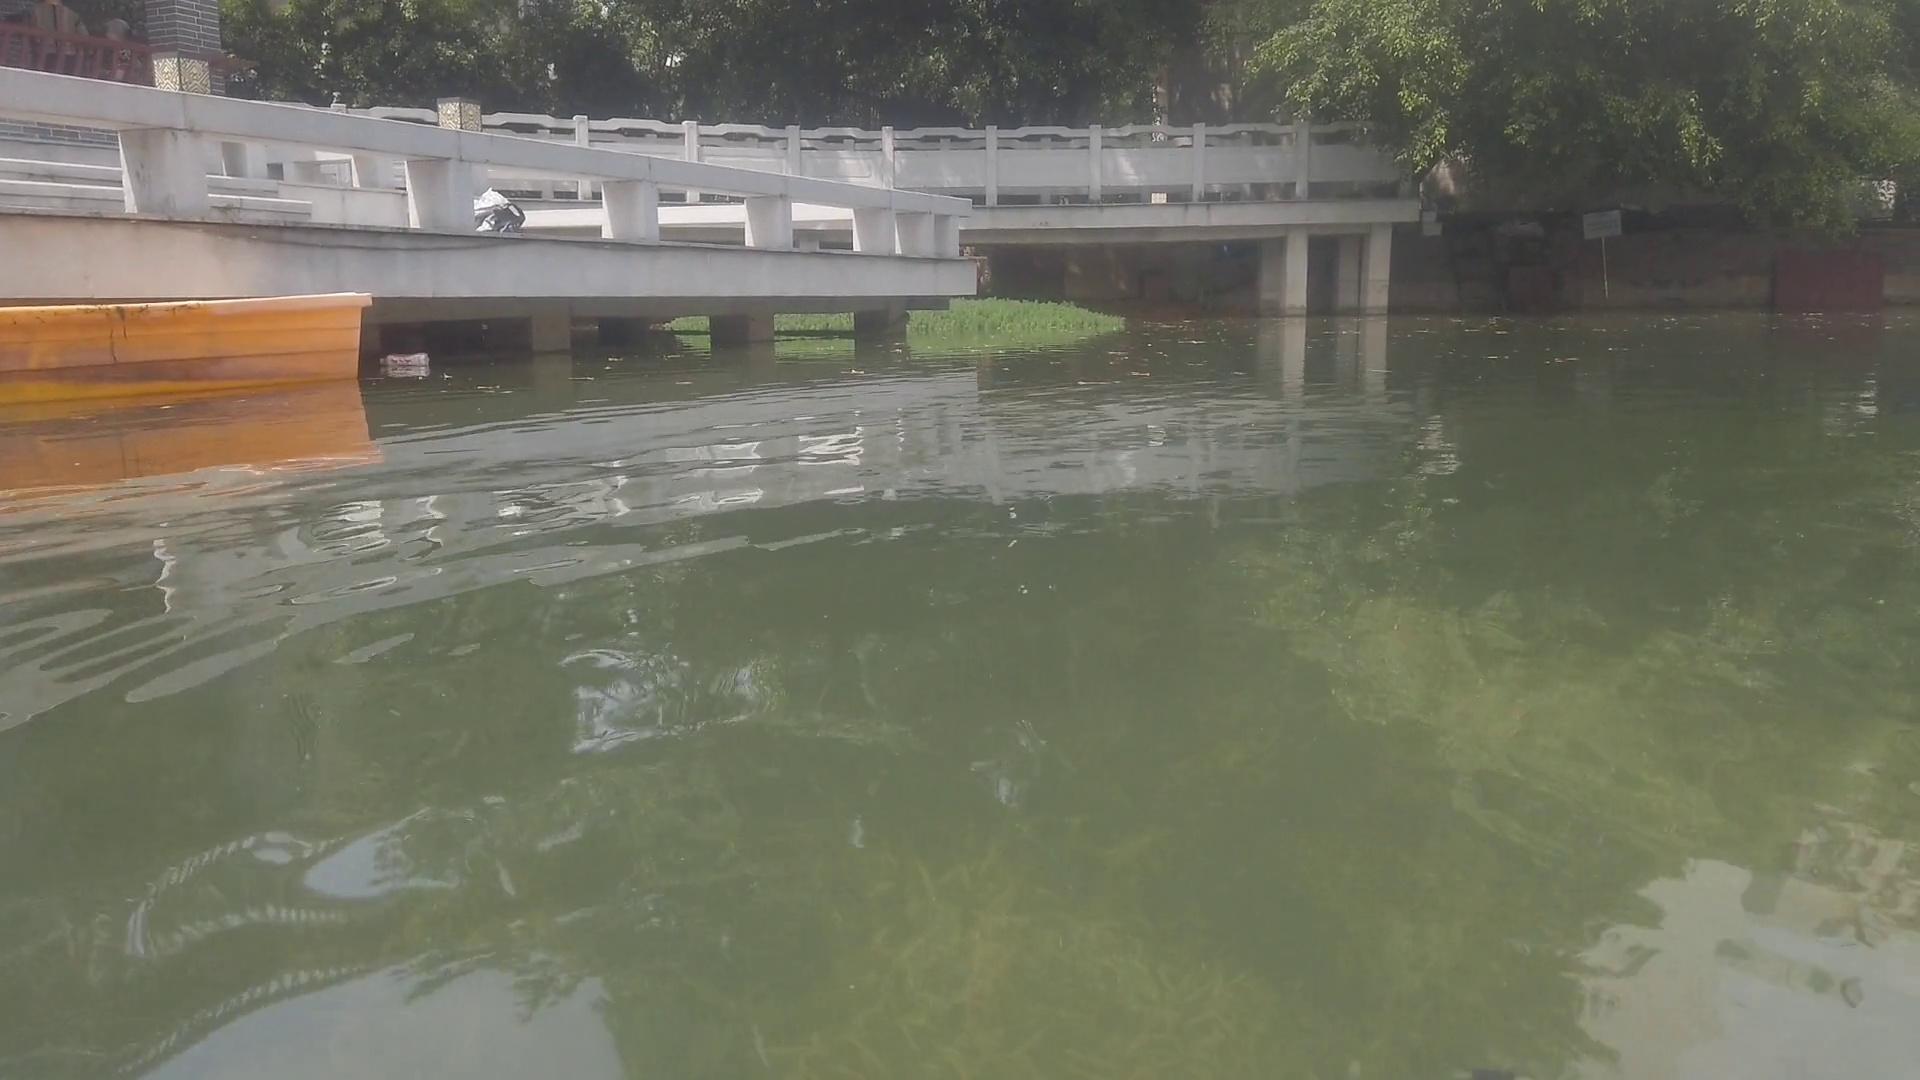bottle: (377, 349, 431, 367)
